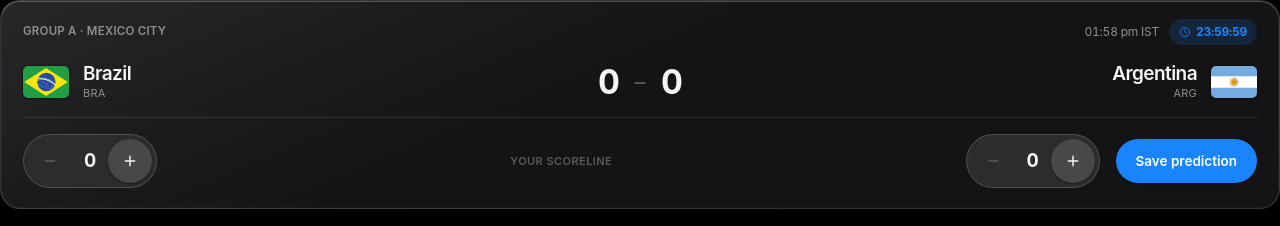
Test: MatchCard › mirrors the Argentina wall impact when Argentina is the right team
The width and height of the screenshot is (1280, 226).
Click the button named "increase brazil". click: (130, 161)
box: [108,139,152,183]
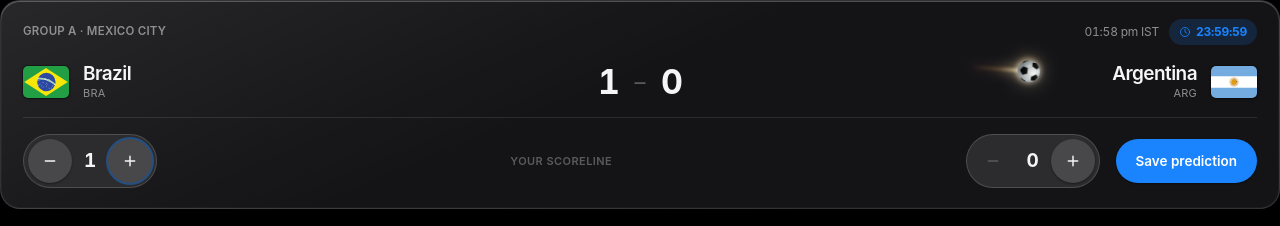
Check: the text named "Brazil score: 1" is shown, box [84,149,96,172]
